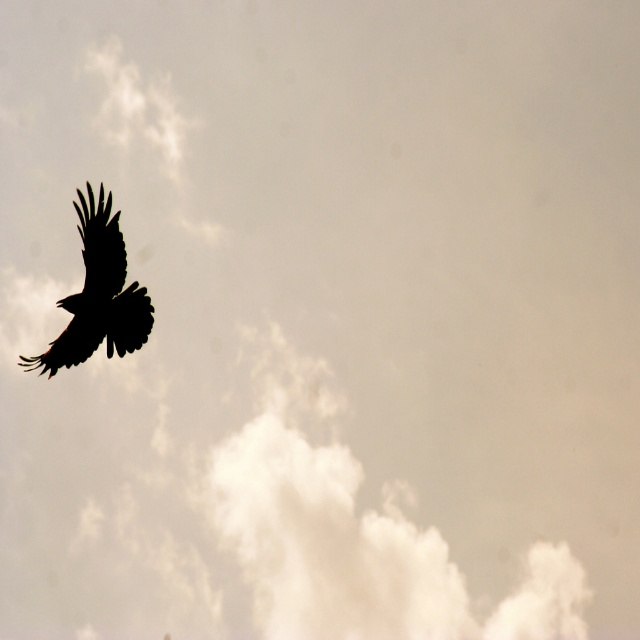Eagle: (17, 177, 158, 386)
